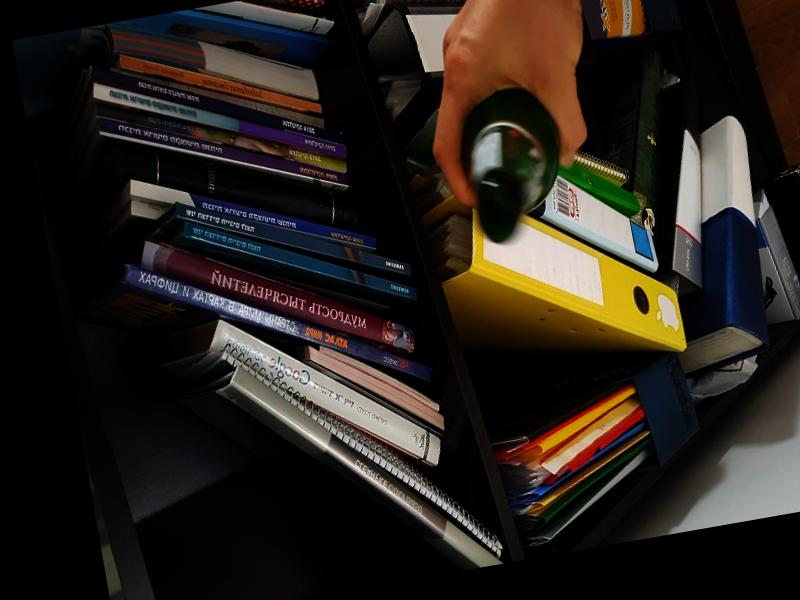Beer: (452, 81, 574, 245)
